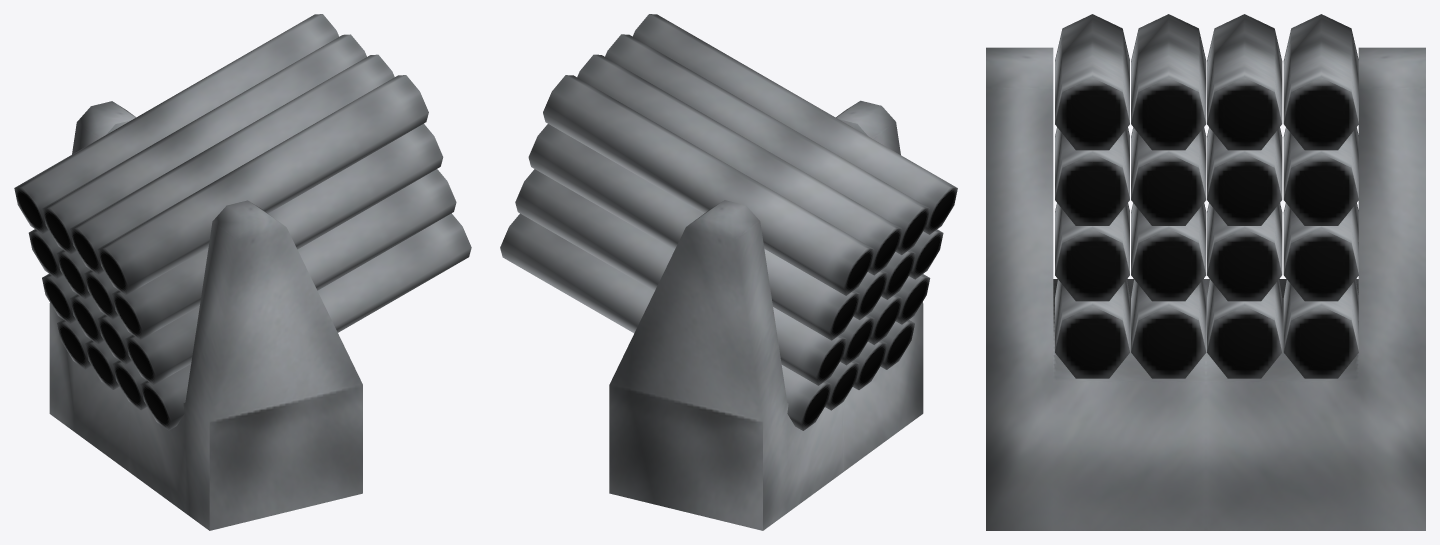
Rendered from player_warship_pvo.glb.
3 renders of one model, left to right at view 1: azimuth 30°, elevation 25°; view 2: azimuth 150°, elevation 25°; view 3: azimuth 270°, elevation 25°, orthographic. The views are drawn at different scales.
Parts seen in each view (by area): view 1: polySurface237_Frigate_material2_0.001, polySurface238; view 2: polySurface237_Frigate_material2_0.001, polySurface238; view 3: polySurface238, polySurface237_Frigate_material2_0.001.
Part boxes in pixels (x1=…): polySurface237_Frigate_material2_0.001: x1=14, y1=14, x2=471, y2=430; polySurface238: x1=49, y1=101, x2=362, y2=530; polySurface237_Frigate_material2_0.001: x1=500, y1=14, x2=957, y2=430; polySurface238: x1=609, y1=100, x2=923, y2=530; polySurface238: x1=986, y1=47, x2=1425, y2=530; polySurface237_Frigate_material2_0.001: x1=1055, y1=14, x2=1358, y2=378.
Size of what is drawn, in the model's own units: 2.26 by 2.23 by 1.75.
1 material, 1 textured.
